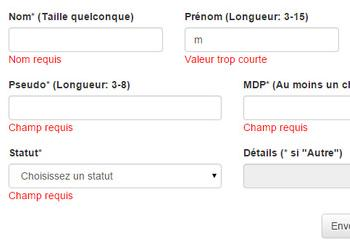field: (5, 93, 225, 122), (7, 162, 223, 190), (183, 25, 341, 53), (8, 25, 164, 53)
field_with_label: (6, 147, 225, 192), (3, 80, 226, 123), (6, 11, 165, 55), (182, 13, 343, 55)
